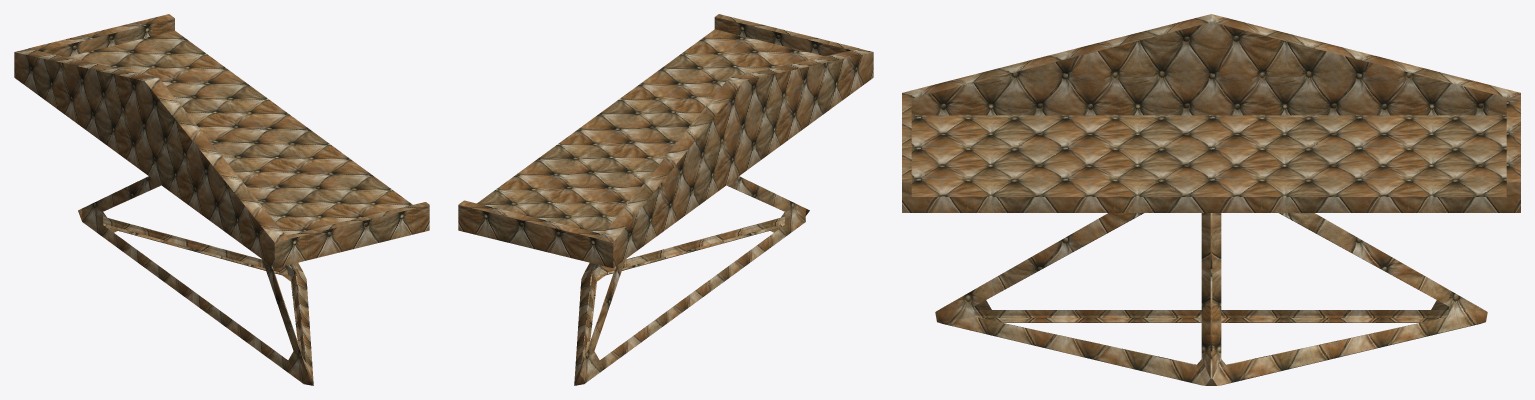
Rendered from BankModernU.fbx.
The picture shows the model from 3 angles, left to right: view 1: azimuth 30°, elevation 25°; view 2: azimuth 150°, elevation 25°; view 3: azimuth 270°, elevation 25°; orthographic projection. The views are drawn at different scales.
Parts seen in each view (by area): view 1: Cone; view 2: Cone; view 3: Cone.
Boxes of the visible parts, x1,y1,x2,y2 form: Cone: [14, 14, 429, 385]; Cone: [458, 14, 873, 385]; Cone: [902, 14, 1520, 385].
Bounding box in the file's own units: 227 × 320 × 641.
